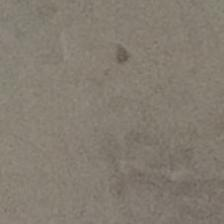Non_Crack: (7, 0, 220, 224)
